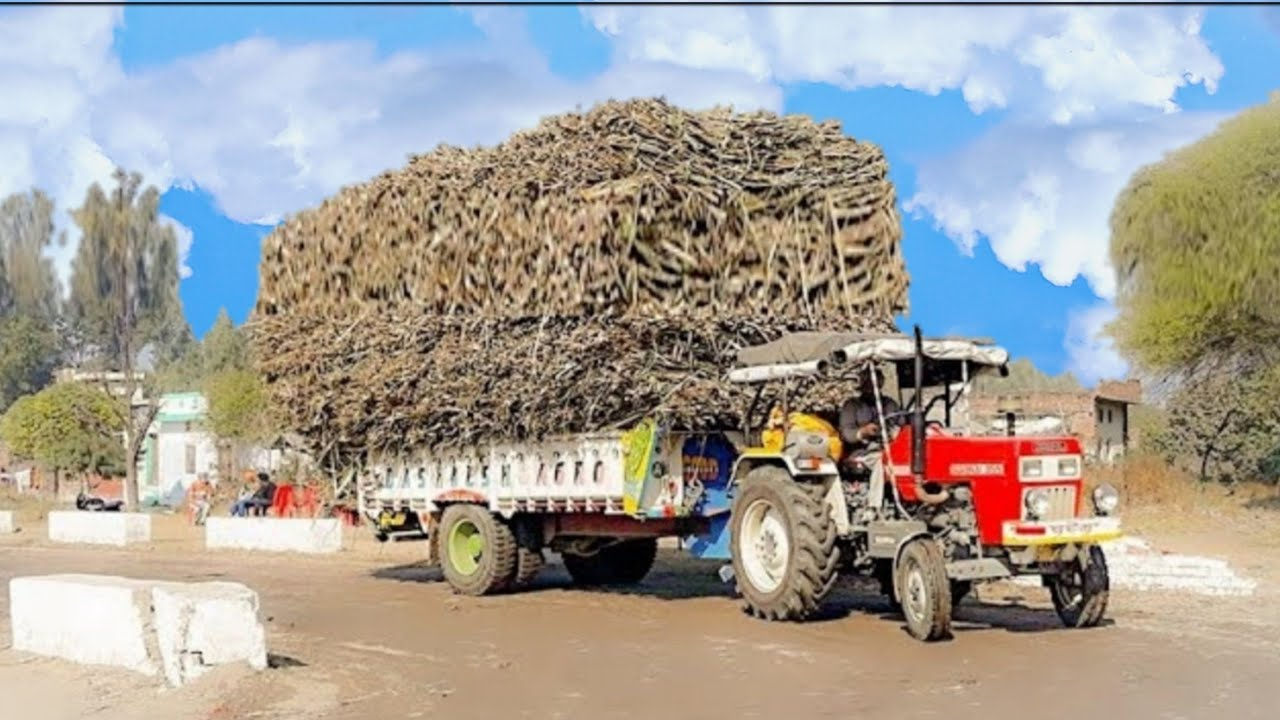wheel: (730, 468, 831, 626), (435, 507, 521, 593), (898, 534, 951, 651)
